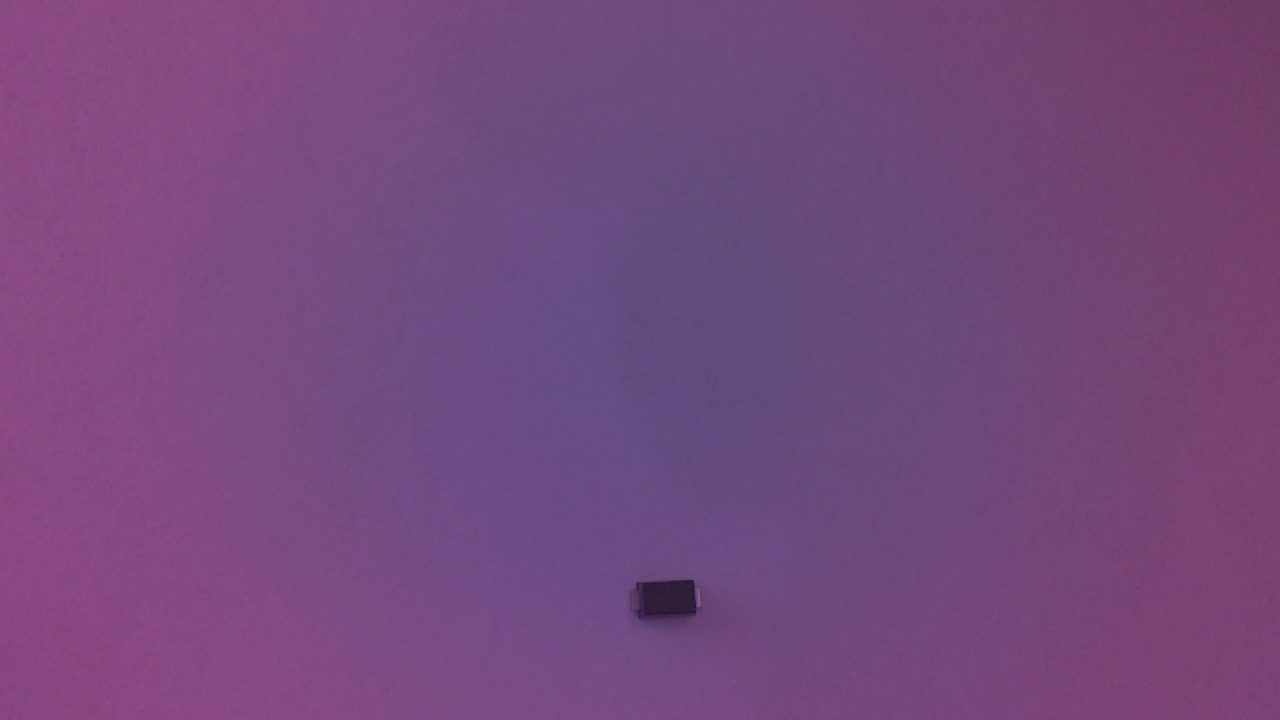Diode: (625, 576, 714, 629)
